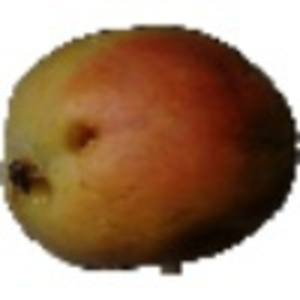mamão: (1, 20, 294, 264)
